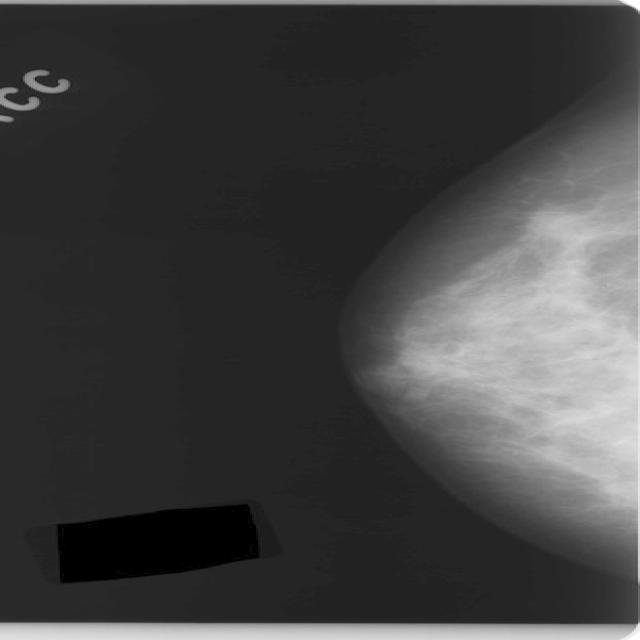tumour: (526, 204, 596, 243)
